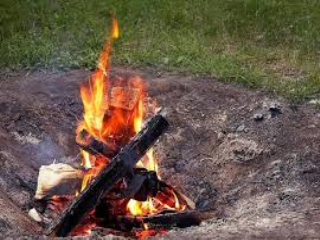fire: (41, 36, 186, 221)
